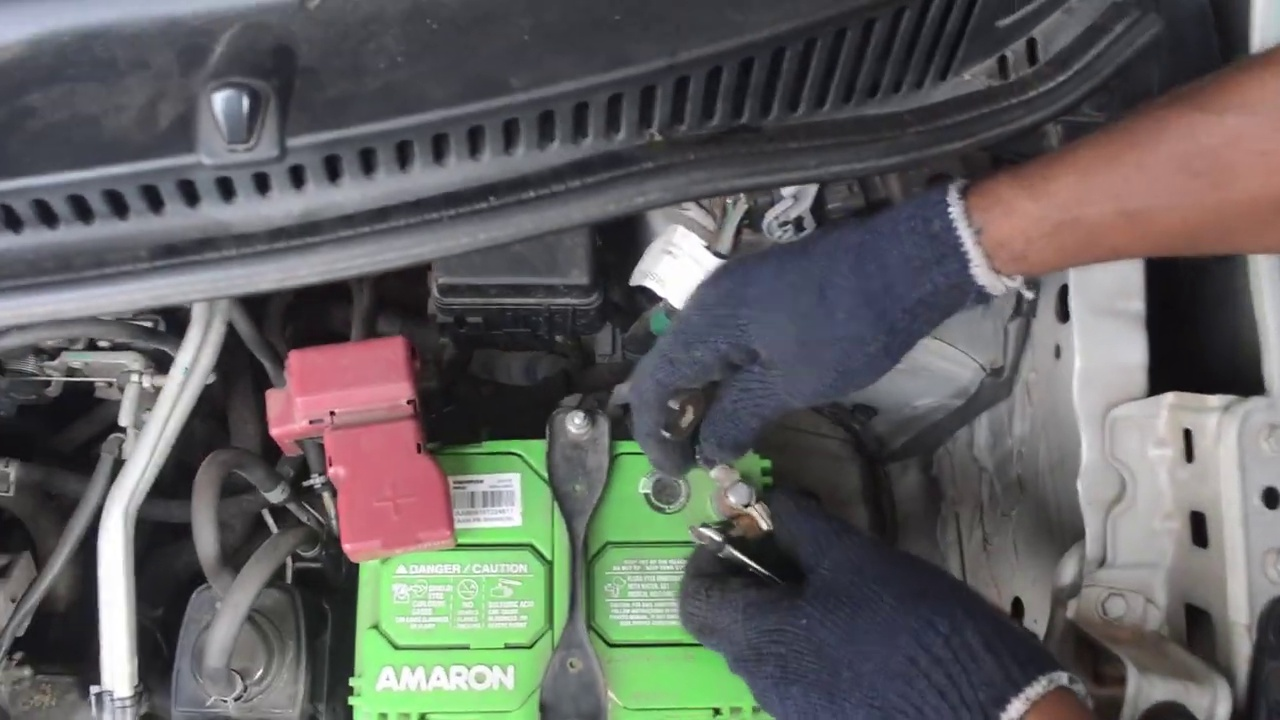battery: (325, 416, 774, 720)
neg_connected: (698, 430, 787, 538)
neg_touched: (650, 378, 811, 589)
pos_connected: (301, 353, 461, 579)
